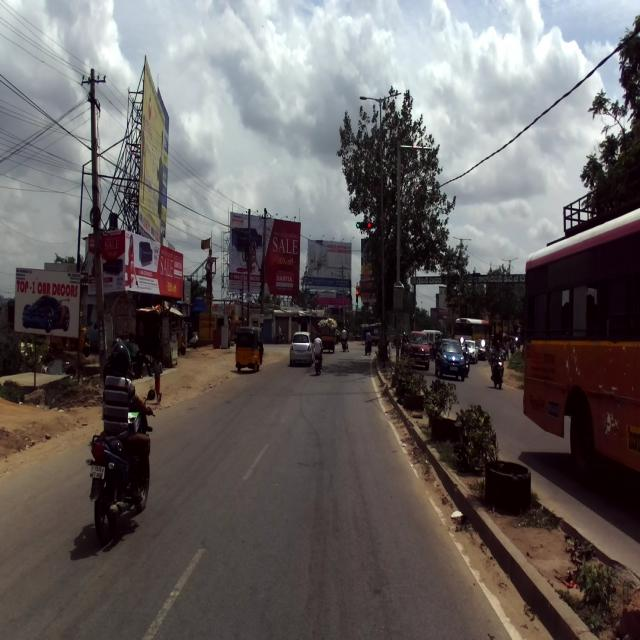Car_Maruti-Suzuki: (288, 329, 314, 367)
autorickshaw: (235, 325, 264, 371)
bus: (521, 165, 639, 495)
motorcycle_Hero: (85, 387, 156, 545)
motorcycle_TVS: (312, 346, 323, 374)
